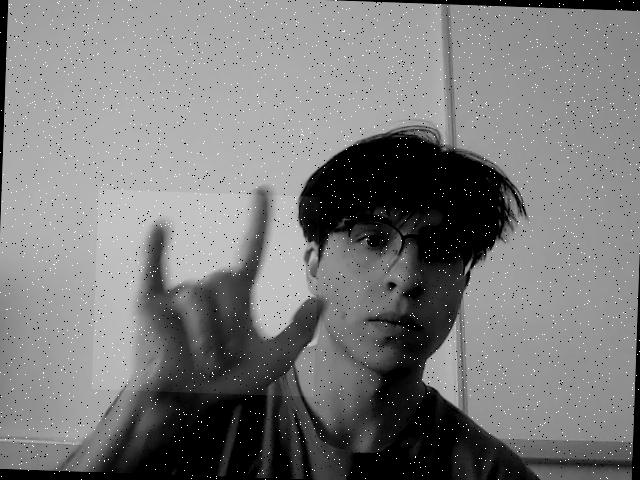I_Love_You: (92, 189, 320, 397)
